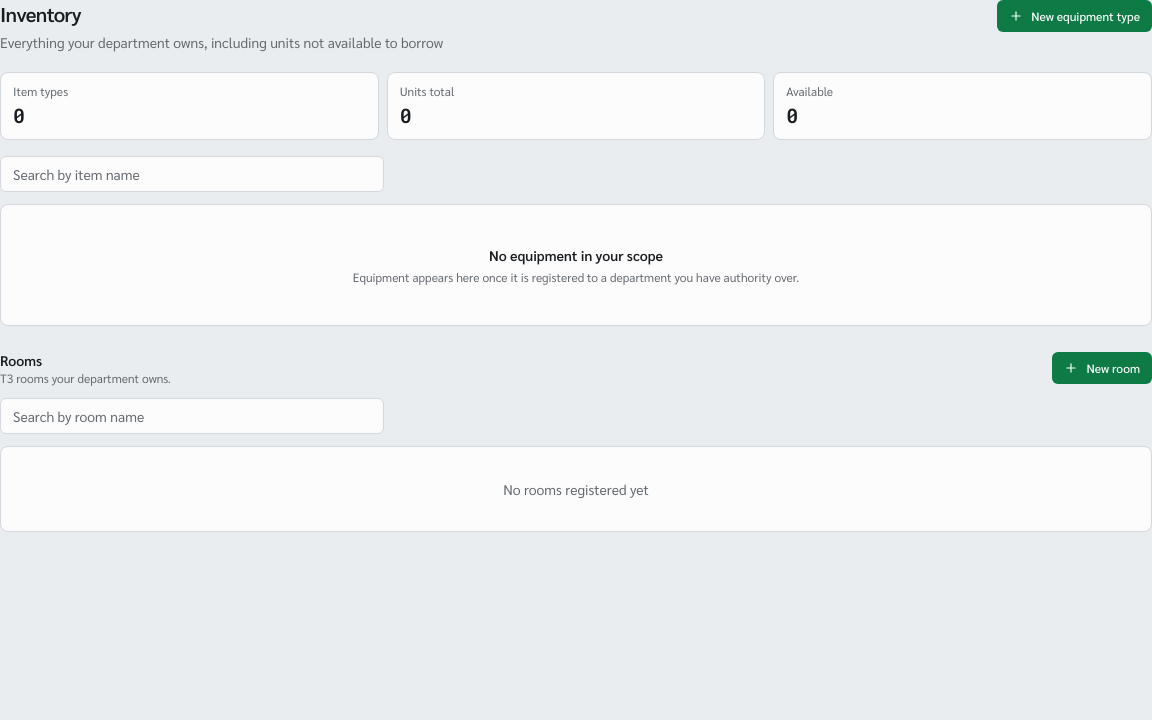
Test: Staff inventory: rooms section create dialog › keeps the break start/end pair together, and can turn the break off
Click the button "New room" at (1102, 368), box [1052, 352, 1151, 384]
(page scrolled)
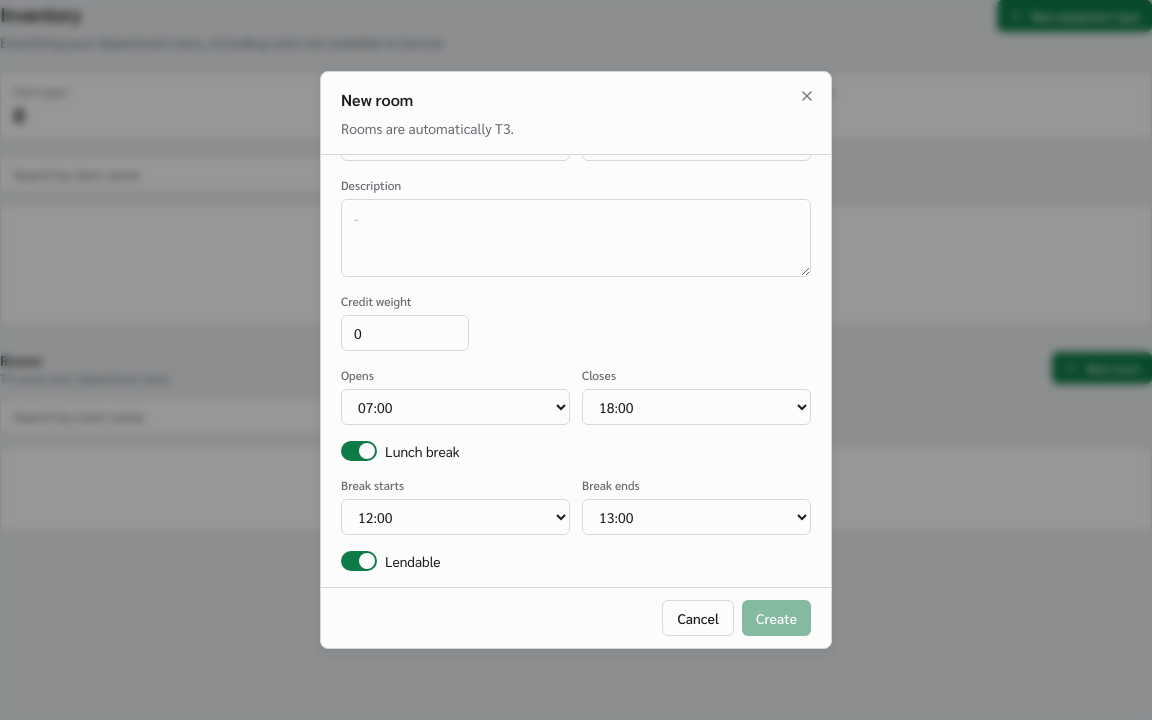
Check: the text "Break starts" is shown, box [341, 477, 404, 493]
Check: the text "Break ends" is shown, box [582, 477, 640, 493]
Check: the dropdown below "Break starts" shows "12:00", box [341, 499, 570, 535]
Click the switch named "Lunch break" next to "Lunch break" at (359, 451), box [341, 441, 377, 461]
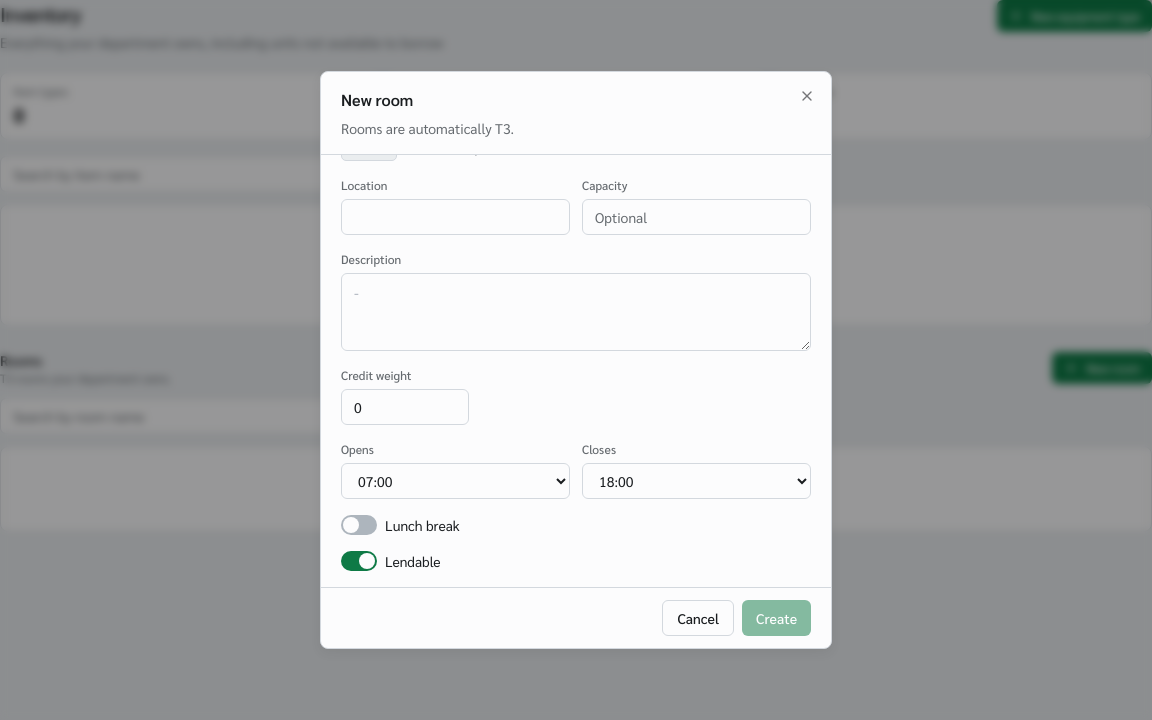
Check: the text "Break starts" is gone
Check: the text "Break ends" is gone
